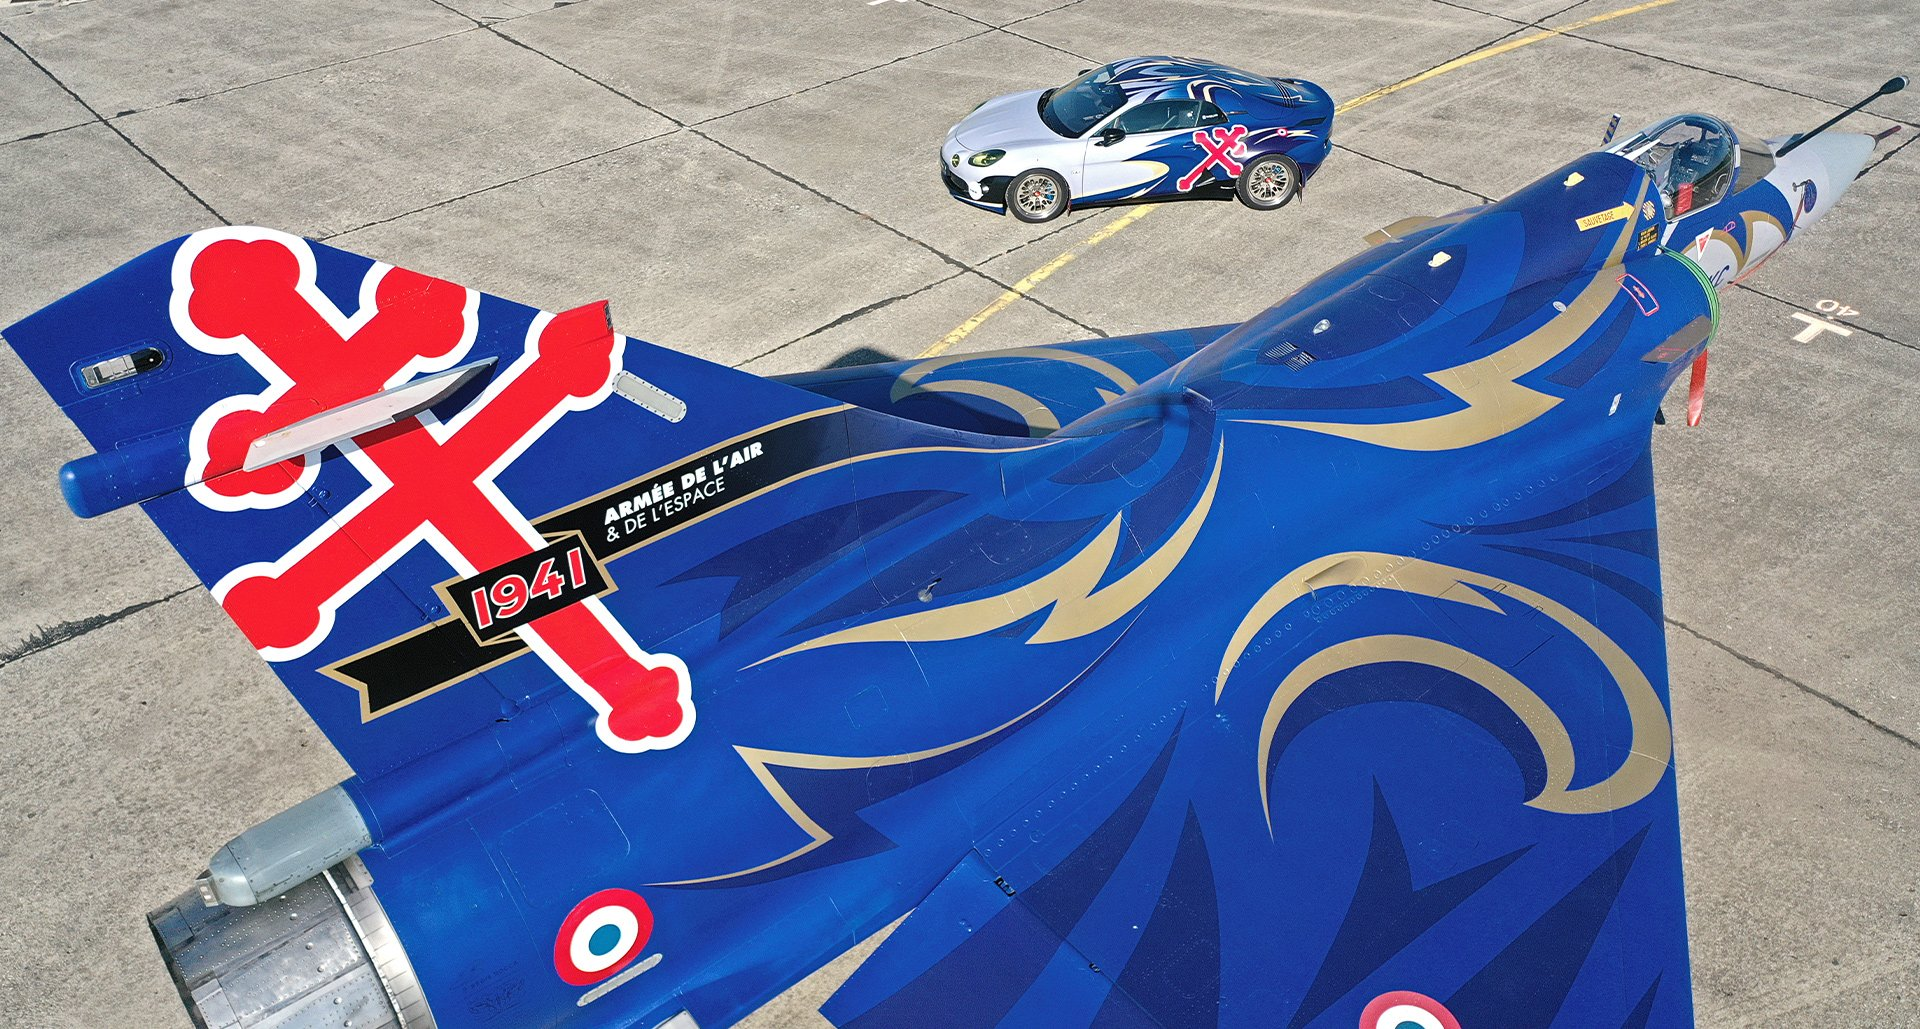Mirage2000: (1, 74, 1910, 1029)
